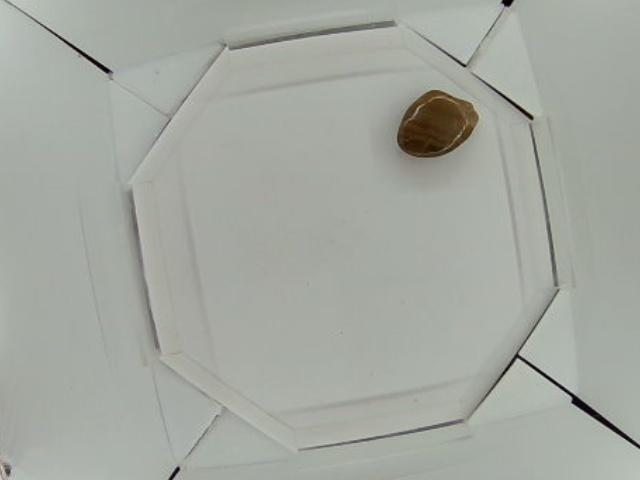Pebble: (394, 88, 479, 158)
